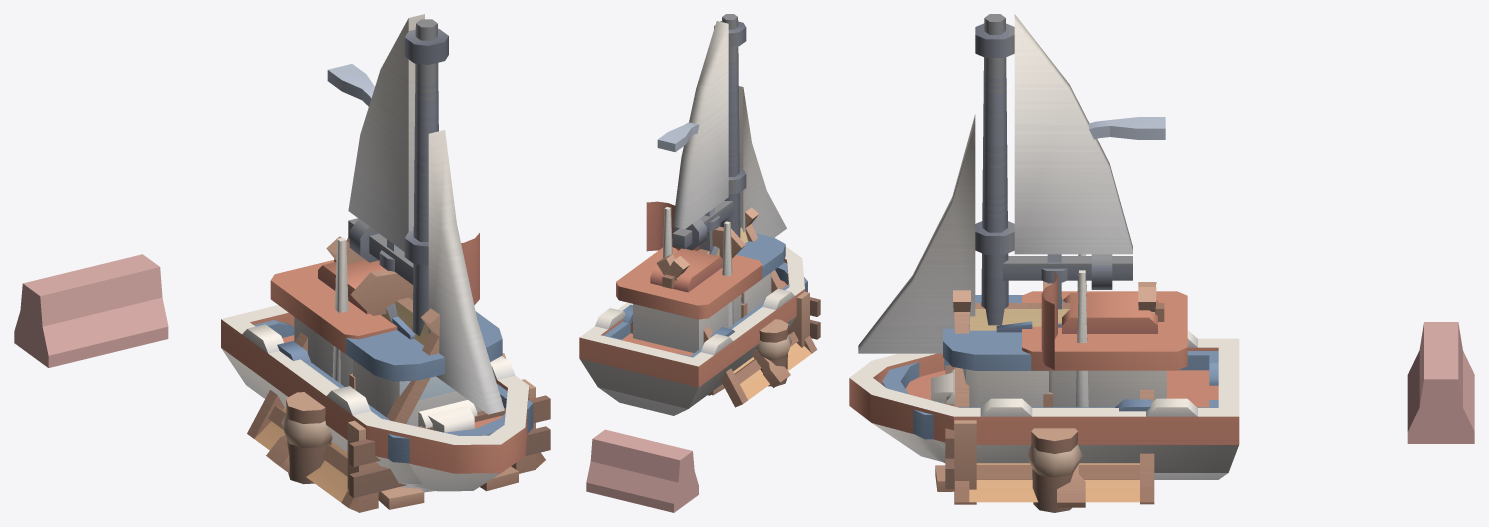
Rendered from props.glb.
3 renders of one model, left to right at view 1: azimuth 30°, elevation 25°; view 2: azimuth 150°, elevation 25°; view 3: azimuth 270°, elevation 25°, orthographic. The views are drawn at different scales.
Visible parts, largest first — view 1: sail, boat-sail-a, barrierRed(Clone), boat-fishing-small, tent-canvas, fence-straight, fence-rope, resource-planks, light-curved, signpost, flag, signpost-single; view 2: boat-sail-a, sail, barrierRed(Clone), boat-fishing-small, tent-canvas, flag, fence-rope, fence-straight, light-curved, paddles, signpost; view 3: sail, boat-sail-a, boat-fishing-small, tent-canvas, barrierRed(Clone), fence-rope, fence-straight, flag, light-curved, paddles.
Boxes of the visible parts, <box> form: sail: <box>348,14,504,414</box>; boat-sail-a: <box>221,259,529,491</box>; barrierRed(Clone): <box>14,254,168,367</box>; boat-fishing-small: <box>254,237,533,492</box>; tent-canvas: <box>247,236,545,512</box>; fence-straight: <box>347,379,550,512</box>; fence-rope: <box>281,353,506,484</box>; resource-planks: <box>378,466,518,509</box>; light-curved: <box>327,64,400,251</box>; signpost: <box>350,272,413,315</box>; flag: <box>379,233,479,304</box>; signpost-single: <box>364,270,413,315</box>; boat-sail-a: <box>579,247,804,415</box>; sail: <box>672,14,786,250</box>; barrierRed(Clone): <box>586,429,698,512</box>; boat-fishing-small: <box>603,207,807,357</box>; tent-canvas: <box>630,207,817,407</box>; flag: <box>646,201,720,251</box>; fence-rope: <box>756,319,791,386</box>; fence-straight: <box>788,291,820,347</box>; light-curved: <box>657,122,714,231</box>; paddles: <box>752,349,790,387</box>; signpost: <box>698,228,745,296</box>; sail: <box>858,14,1132,353</box>; boat-sail-a: <box>849,291,1239,479</box>; boat-fishing-small: <box>882,254,1218,462</box>; tent-canvas: <box>953,282,1164,504</box>; barrierRed(Clone): <box>1407,322,1474,443</box>; fence-rope: <box>1026,428,1082,512</box>; fence-straight: <box>945,365,976,504</box>; flag: <box>1041,268,1067,369</box>; light-curved: <box>1047,117,1165,262</box>; paddles: <box>1057,464,1085,507</box>.
Bounding box in the file's own units: 3.59 × 5.68 × 7.02.
12 materials, 6 textured.
